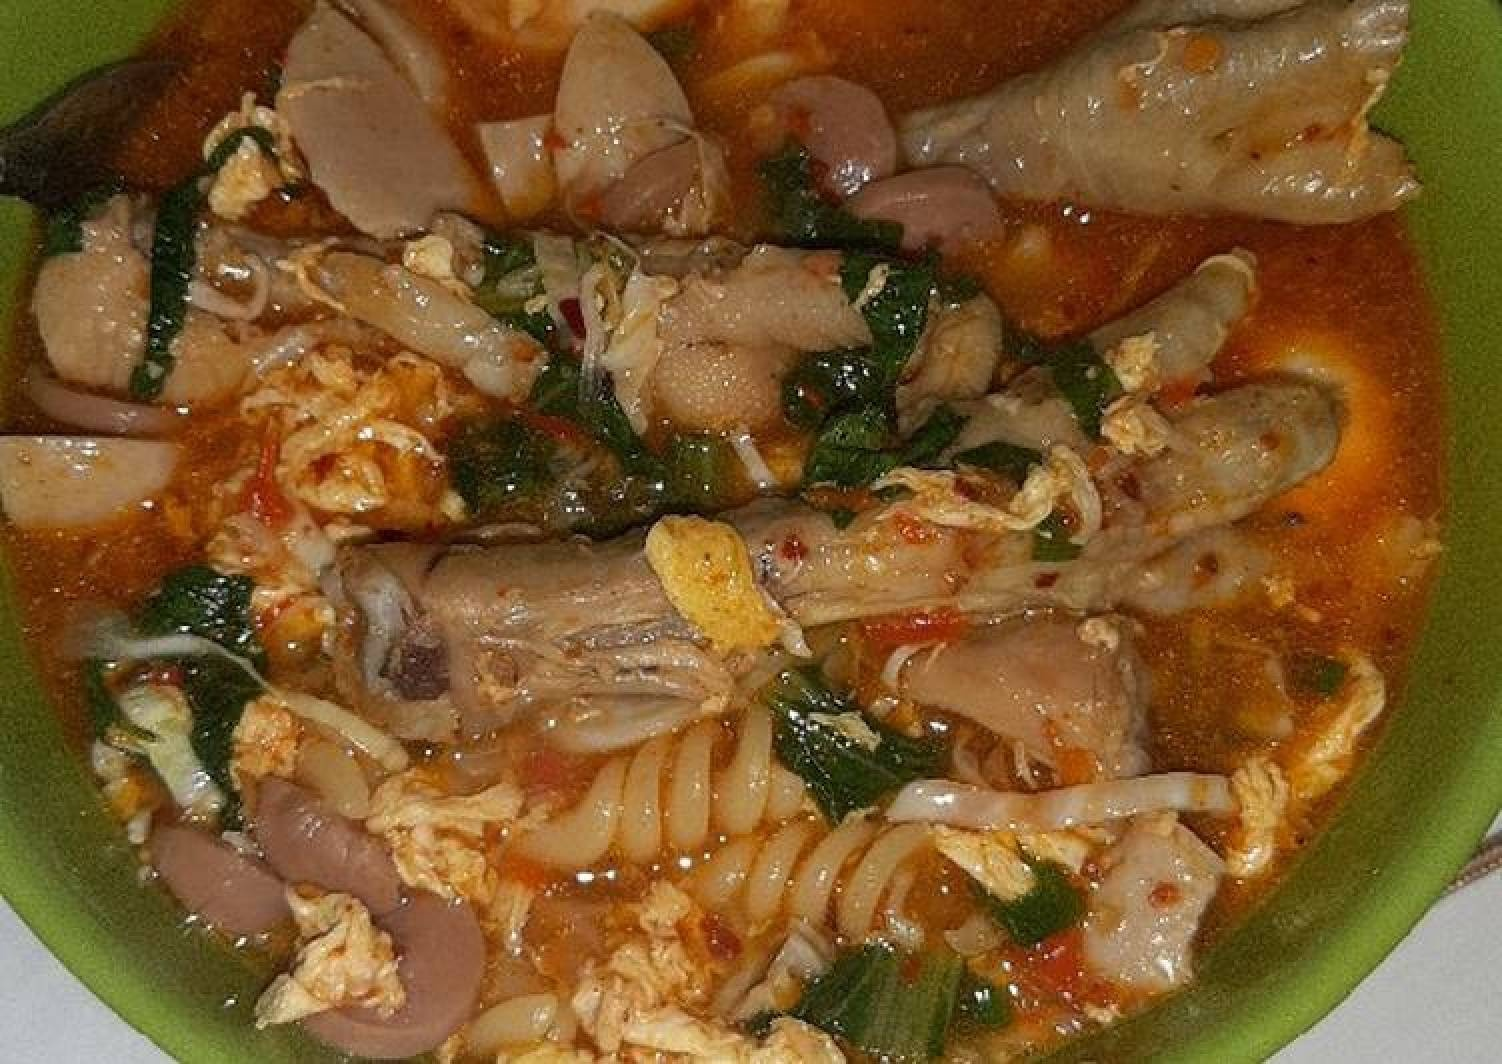seblak: (3, 6, 1418, 1051)
